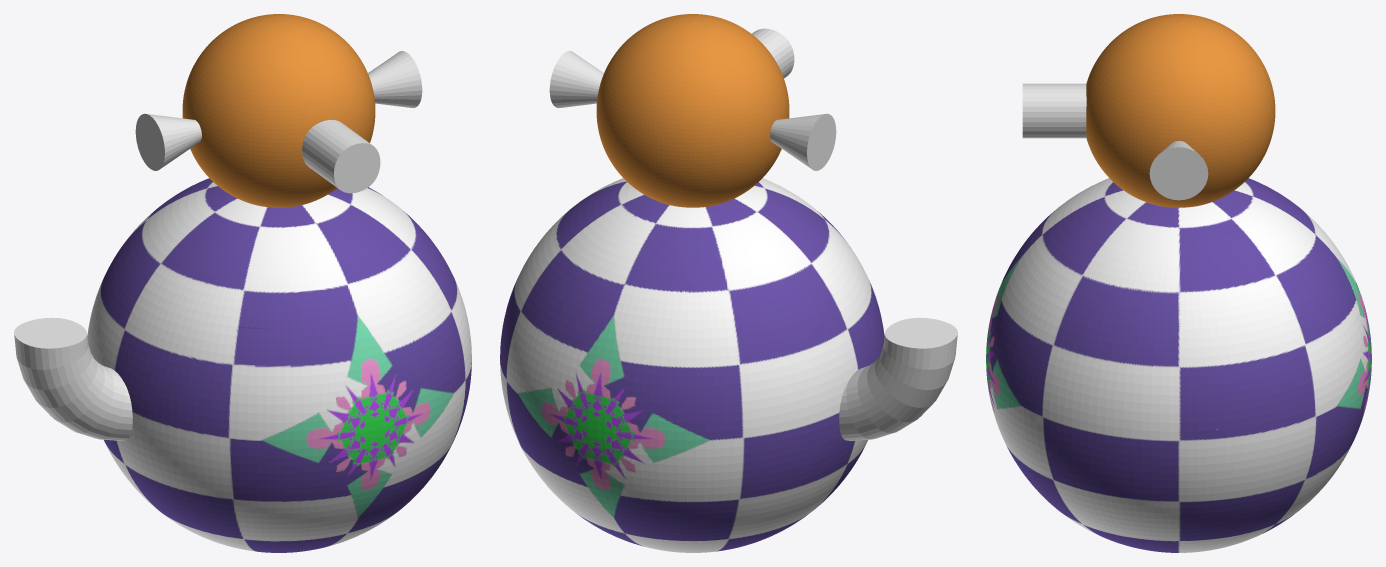
Rendered from BOD0_BMC9_BCC2_BPT4_FRC29_HEA0_HMC5_HCC1_HPT0_ELT3_ERT3_ELL0_ERL0_AP1_AAL1_AAR2_BEK1.fbx.
The picture shows the model from 3 angles, left to right: view 1: azimuth 30°, elevation 25°; view 2: azimuth 150°, elevation 25°; view 3: azimuth 270°, elevation 25°; orthographic projection.
Parts seen in each view (by area): view 1: Body, Arm, Beak, Ear, Ear.001; view 2: Body, Arm, Ear, Ear.001, Beak; view 3: Body, Beak, Ear.001.
Part boxes in pixels (<box>): Body: <box>87,14,471,552</box>; Arm: <box>14,317,132,440</box>; Beak: <box>302,119,380,193</box>; Ear: <box>135,113,201,170</box>; Ear.001: <box>368,51,422,108</box>; Body: <box>500,14,884,552</box>; Arm: <box>839,317,957,440</box>; Ear: <box>770,113,836,170</box>; Ear.001: <box>549,51,603,108</box>; Beak: <box>752,28,794,78</box>; Body: <box>986,14,1371,552</box>; Beak: <box>1022,83,1086,138</box>; Ear.001: <box>1149,141,1208,200</box>.
Size of the model in its own units: 62.99 by 72.41 by 49.36.
1 material, 1 textured.
